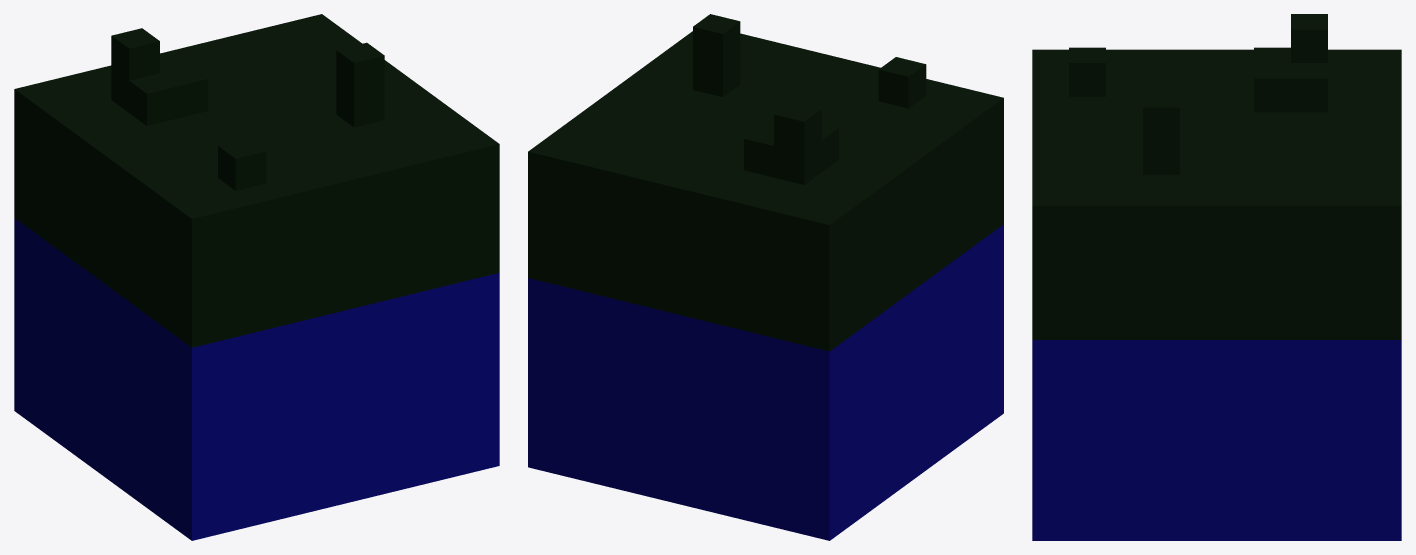
Rendered from grass2.vox.obj.
3 views of the same model, side by side, from view 1: azimuth 30°, elevation 25°; view 2: azimuth 150°, elevation 25°; view 3: azimuth 270°, elevation 25° (orthographic). The views are drawn at different scales.
Size of the model in its own units: 2 by 2.4 by 2.
